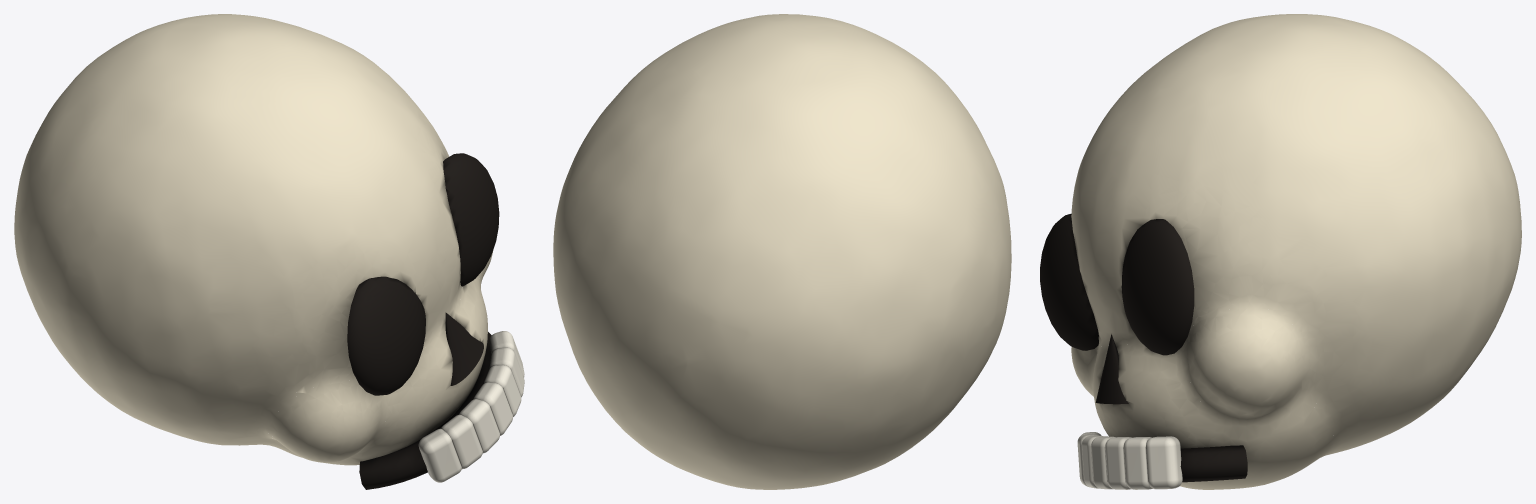
Rendered from jasa.glb.
3 renders of one model, left to right at view 1: azimuth 30°, elevation 25°; view 2: azimuth 150°, elevation 25°; view 3: azimuth 270°, elevation 25°, orthographic. The views are drawn at different scales.
Visible parts, largest first — view 1: caveira__r0, caveira__r6, caveira__r7, caveira__r5, caveira__r9, caveira__r8, caveira__r10, caveira__r11, caveira__r1, caveira__r2, caveira__r3, caveira__r4; view 2: caveira__r0; view 3: caveira__r0, caveira__r7, caveira__r6, caveira__r5, caveira__r4, caveira__r3, caveira__r8, caveira__r2, caveira__r1, caveira__r11.
Part boxes in pixels (bbox=[...]): caveira__r0: bbox=[14, 14, 493, 465]; caveira__r6: bbox=[347, 276, 425, 395]; caveira__r7: bbox=[443, 153, 499, 286]; caveira__r5: bbox=[359, 332, 491, 489]; caveira__r9: bbox=[418, 428, 461, 482]; caveira__r8: bbox=[445, 312, 483, 385]; caveira__r10: bbox=[441, 414, 482, 469]; caveira__r11: bbox=[459, 399, 499, 453]; caveira__r1: bbox=[473, 382, 512, 435]; caveira__r2: bbox=[484, 365, 521, 416]; caveira__r3: bbox=[489, 347, 524, 397]; caveira__r4: bbox=[489, 331, 524, 377]; caveira__r0: bbox=[553, 14, 1011, 489]; caveira__r0: bbox=[1071, 14, 1521, 489]; caveira__r7: bbox=[1121, 219, 1194, 355]; caveira__r6: bbox=[1040, 213, 1098, 350]; caveira__r5: bbox=[1180, 445, 1247, 482]; caveira__r4: bbox=[1146, 436, 1182, 489]; caveira__r3: bbox=[1123, 437, 1152, 489]; caveira__r8: bbox=[1095, 334, 1128, 404]; caveira__r2: bbox=[1105, 437, 1131, 489]; caveira__r1: bbox=[1091, 436, 1115, 489]; caveira__r11: bbox=[1082, 435, 1103, 488].
Size of the model in its own units: 0.3701 by 0.3531 by 0.3754.
